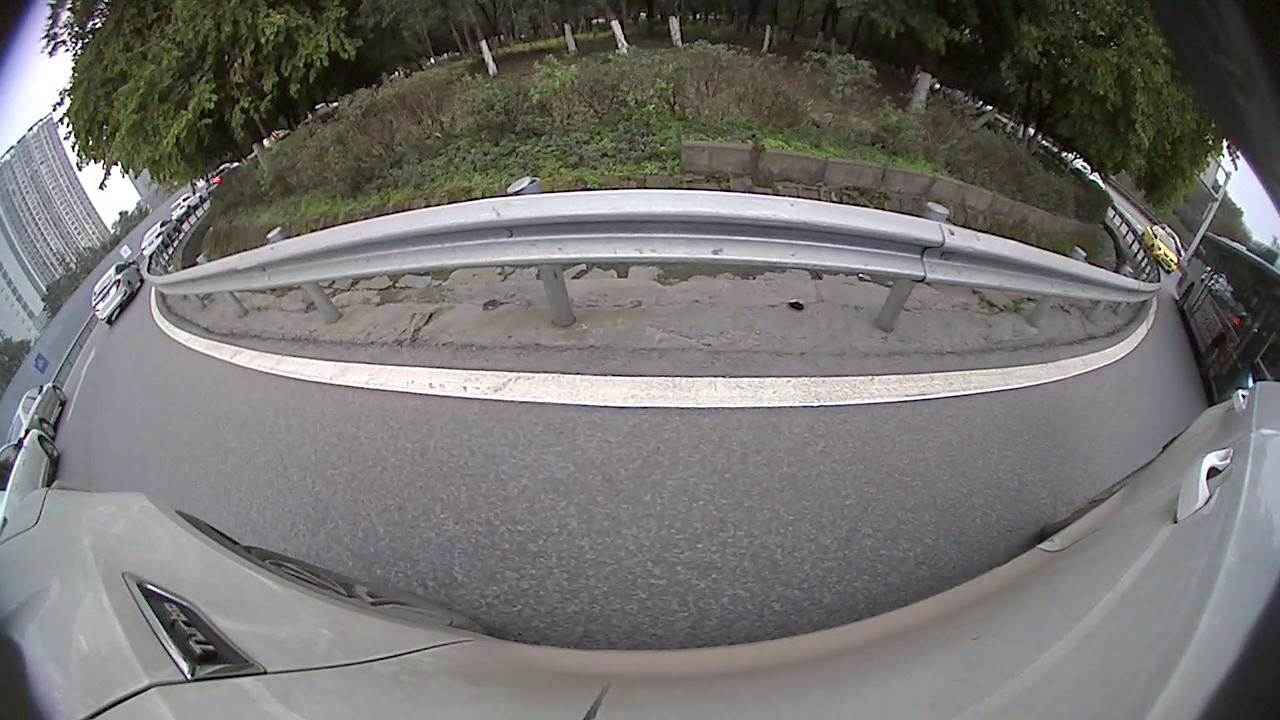car: (439, 52, 623, 128), (1173, 338, 1237, 424), (531, 48, 634, 101), (900, 130, 960, 173), (984, 168, 1029, 210)
front: (579, 88, 605, 115), (1216, 411, 1230, 427), (949, 162, 958, 174)
rear: (460, 98, 489, 127), (1201, 396, 1221, 414), (929, 153, 938, 165)
